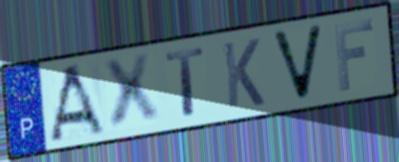A: (47, 62, 108, 144)
F: (332, 17, 376, 94)
K: (220, 36, 267, 111)
T: (163, 45, 208, 120)
V: (268, 22, 326, 104)
X: (99, 51, 163, 134)
